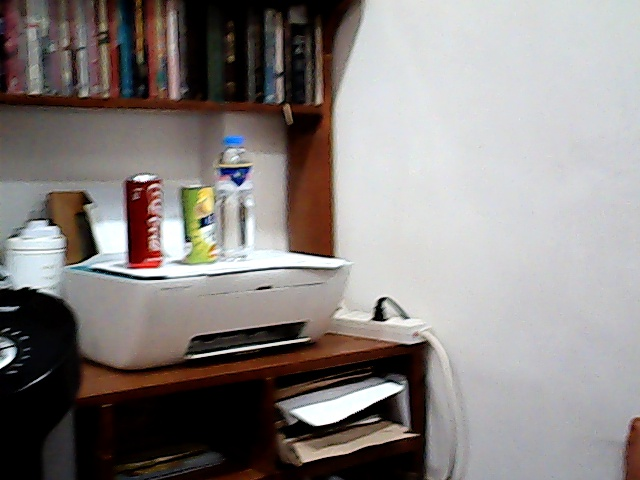Cola: (121, 174, 170, 268)
Pine Juice: (180, 181, 224, 271)
Summit Water: (218, 136, 258, 259)
